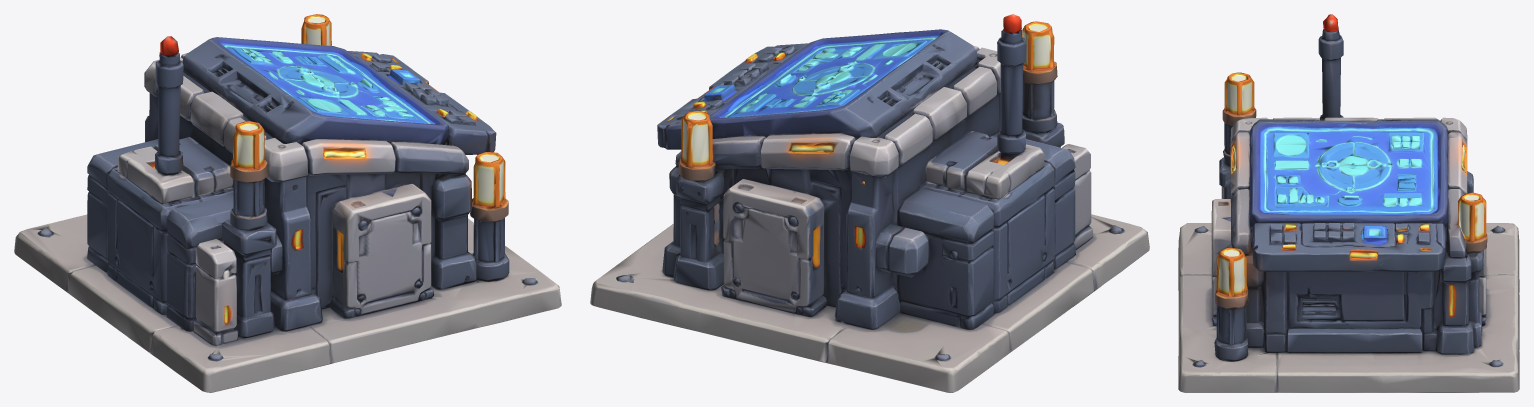
File: ai_terminal.glb
3 views of the same model, side by side, from view 1: azimuth 30°, elevation 25°; view 2: azimuth 150°, elevation 25°; view 3: azimuth 270°, elevation 25° (orthographic). The views are drawn at different scales.
Bounding box in the file's own units: 3.7 × 2.81 × 3.48.
Materials: 1 (1 with a texture image).
